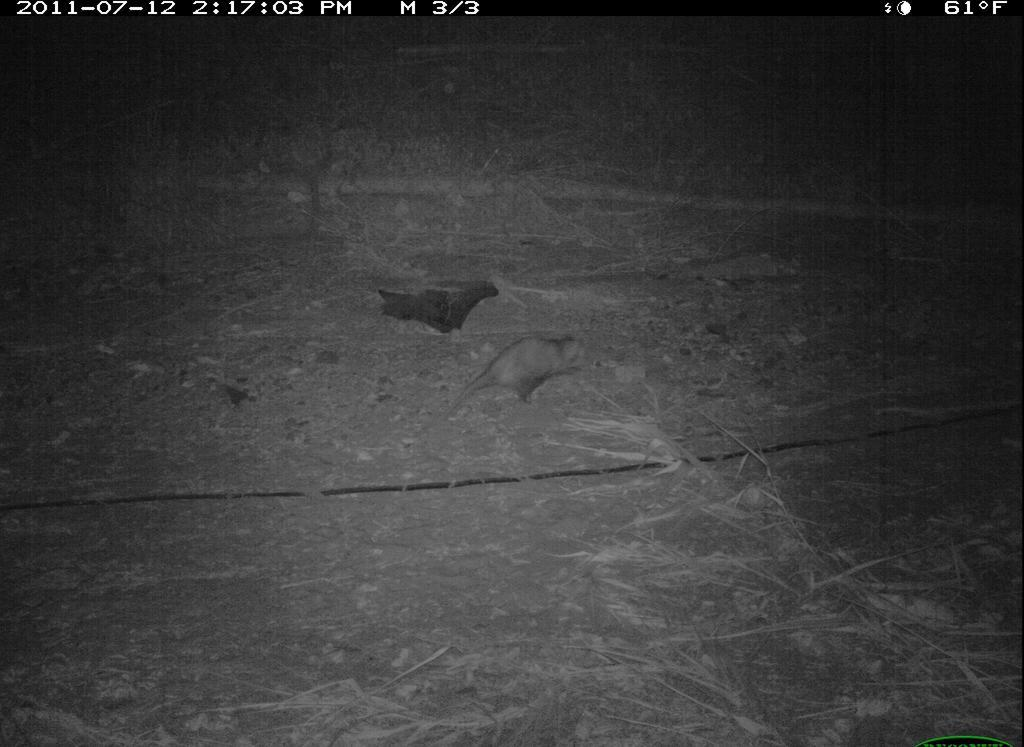opossum: (442, 327, 594, 431)
